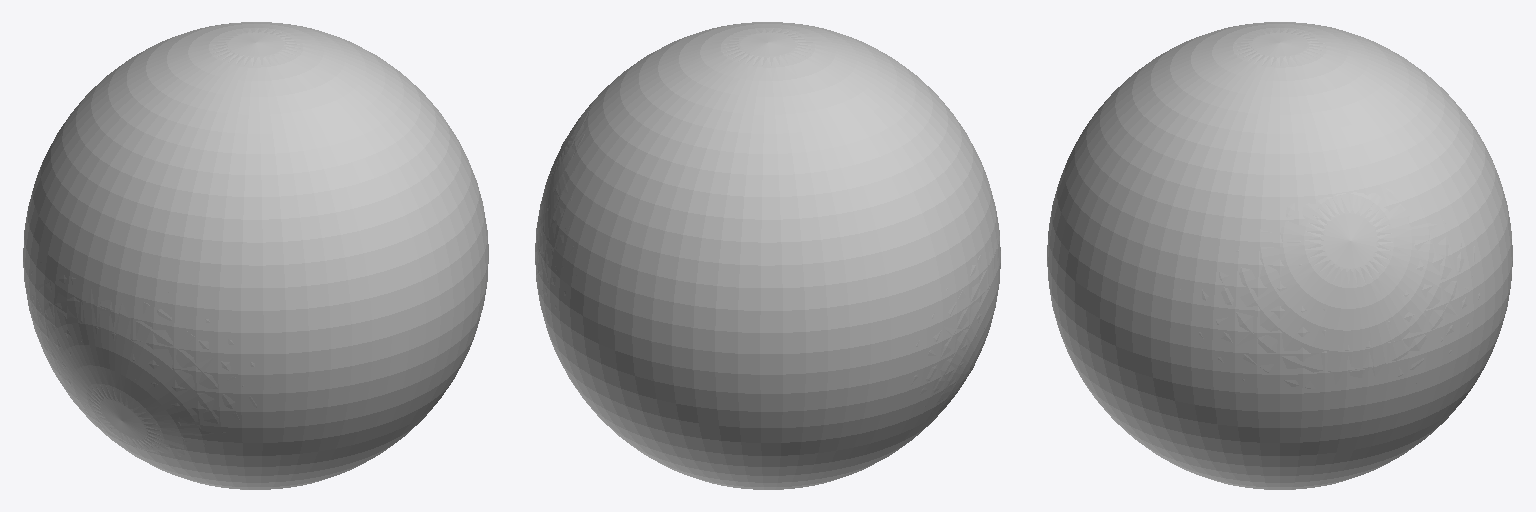
File: earth.obj
3 views of the same model, side by side, from view 1: azimuth 30°, elevation 25°; view 2: azimuth 150°, elevation 25°; view 3: azimuth 270°, elevation 25° (orthographic).
Parts seen in each view (by area): view 1: atmo, clouds; view 2: atmo, clouds; view 3: atmo, clouds.
Part boxes in pixels (x1,y1,x2,y2): atmo: (23, 22, 488, 489); clouds: (27, 262, 270, 456); atmo: (535, 22, 1000, 489); clouds: (535, 101, 1000, 419); atmo: (1047, 22, 1512, 489); clouds: (1180, 188, 1485, 388).
Size of the model in its own units: 19.94 by 20.15 by 19.94.